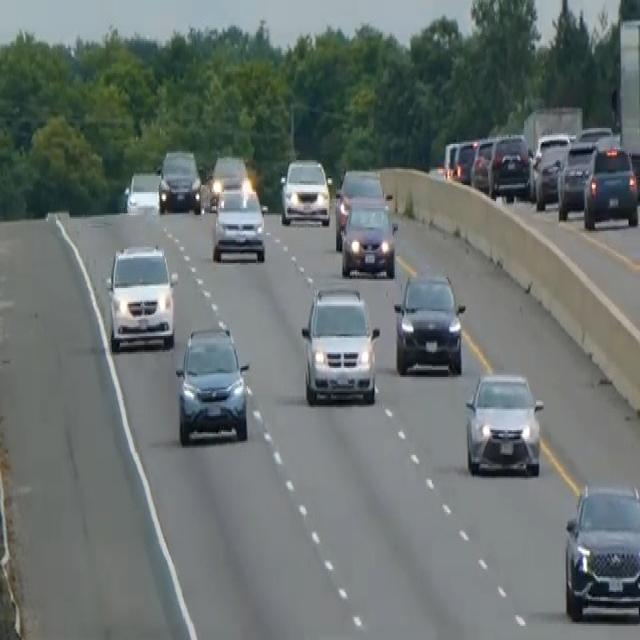car: (563, 478, 639, 622), (174, 324, 250, 446), (463, 368, 544, 476), (393, 270, 466, 375), (582, 139, 638, 229), (340, 194, 397, 279), (212, 183, 266, 263), (334, 167, 384, 249), (279, 154, 330, 226), (531, 130, 574, 208), (556, 138, 596, 218), (488, 131, 532, 201), (157, 148, 201, 214), (206, 153, 248, 210), (124, 169, 161, 213), (444, 137, 477, 185), (470, 135, 495, 192), (576, 122, 612, 146), (443, 137, 460, 179)
lorry: (613, 14, 639, 203)
minivan: (299, 281, 380, 407), (104, 240, 178, 352)
